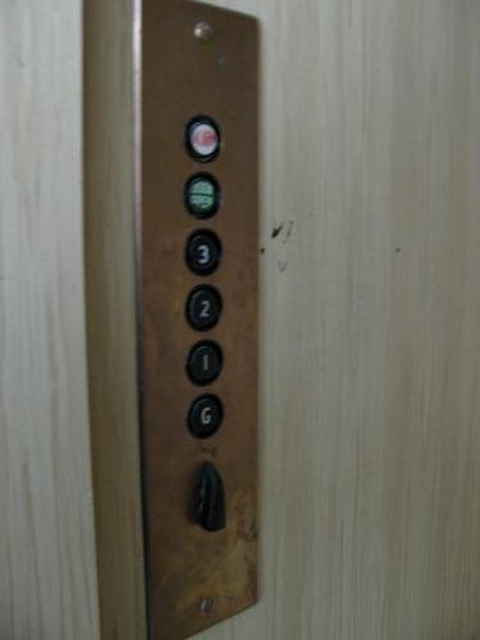1: (185, 336, 224, 387)
2: (185, 281, 224, 332)
3: (184, 227, 222, 276)
G: (186, 391, 224, 440)
text_blur: (185, 111, 222, 163), (183, 168, 220, 220)
